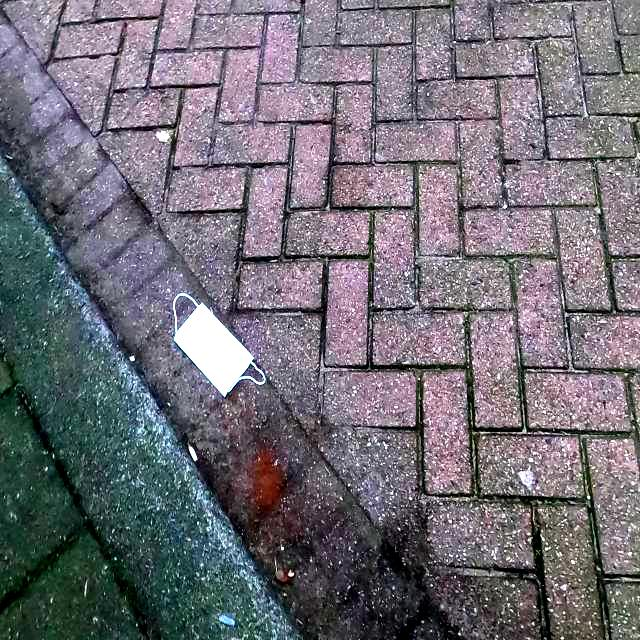Mask: (172, 292, 266, 398)
